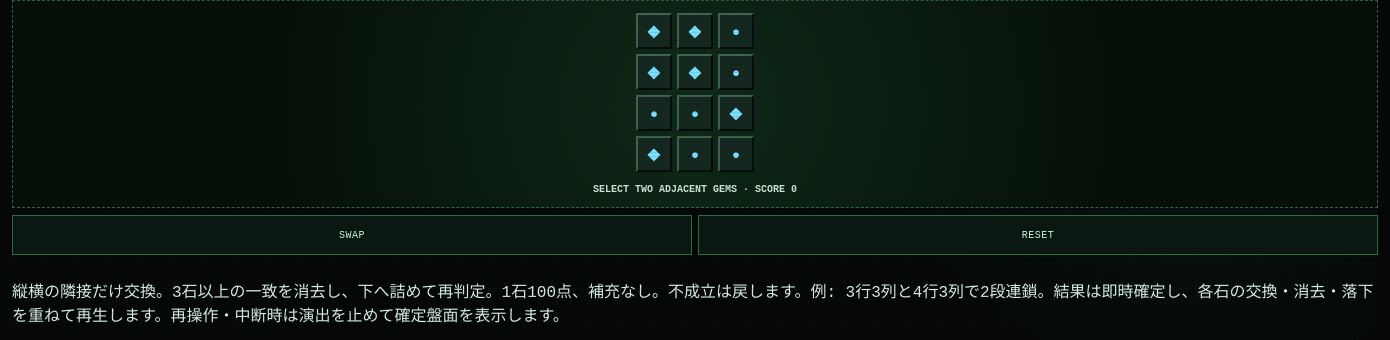
it: rejects wrapped nonadjacent cells rather than granting points
Step 1. Click the 1st button "●" → (736,31), box [718,13,754,49]
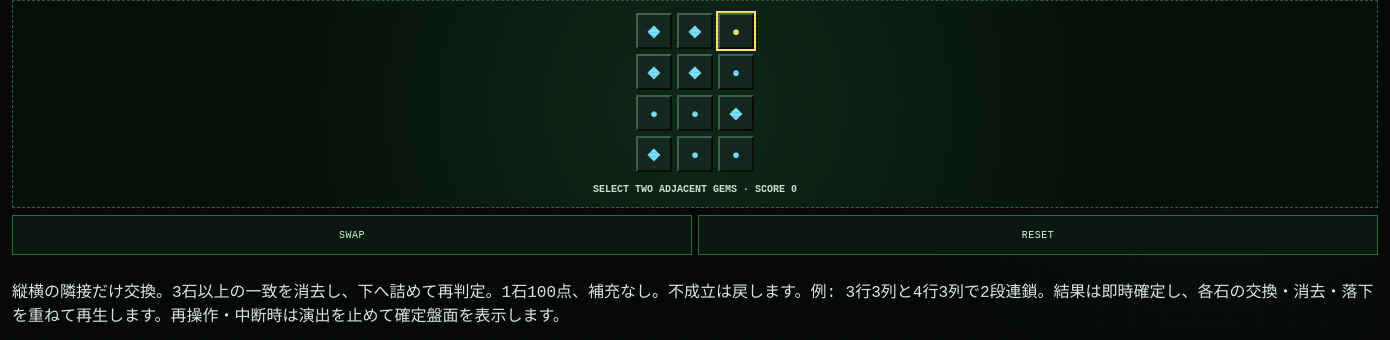
Step 2. Click the 3rd button "◆" → (654,72), box [636,54,672,90]
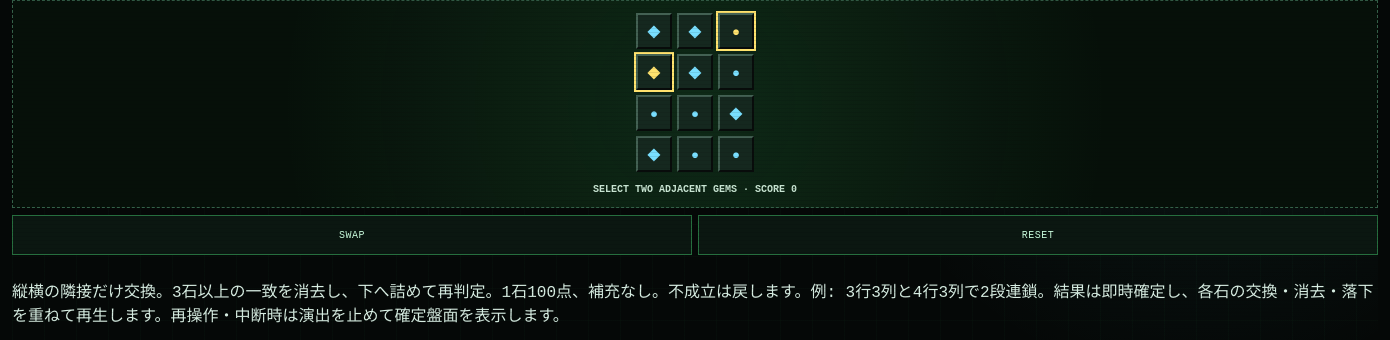
Step 3. Click the button "SWAP" → (352,235), box [12,215,692,255]
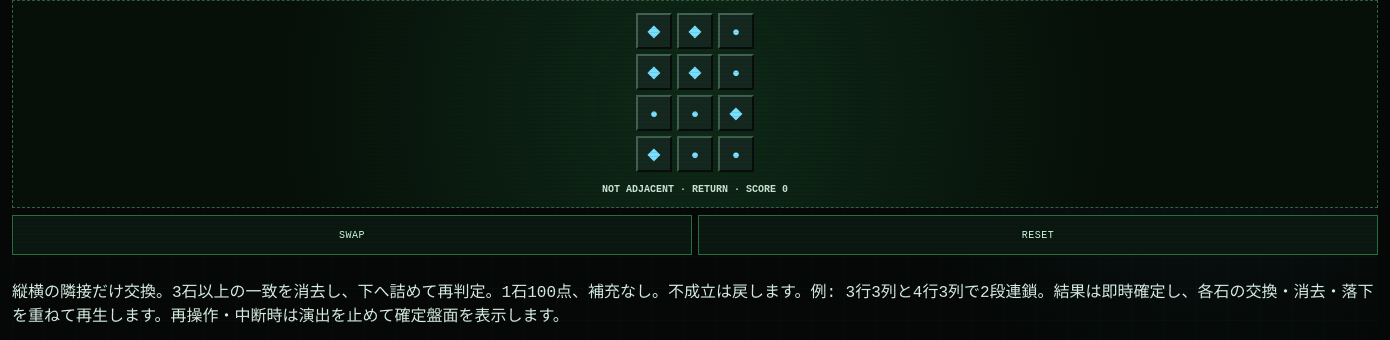
Expected: the text "NOT ADJACENT · RETURN · SCORE 0" is shown, [602,184,788,195]
